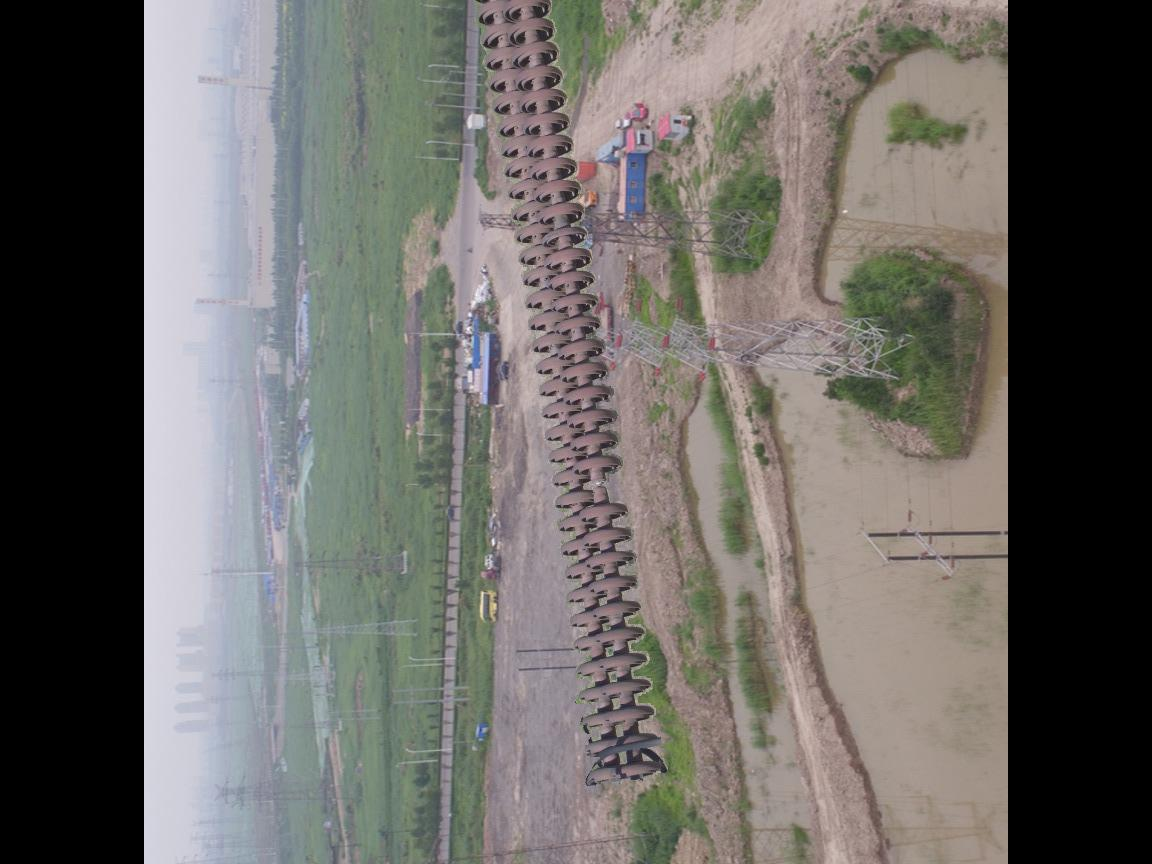insulator: (475, 1, 663, 793)
insulator_stringdrop: (569, 449, 633, 527)
